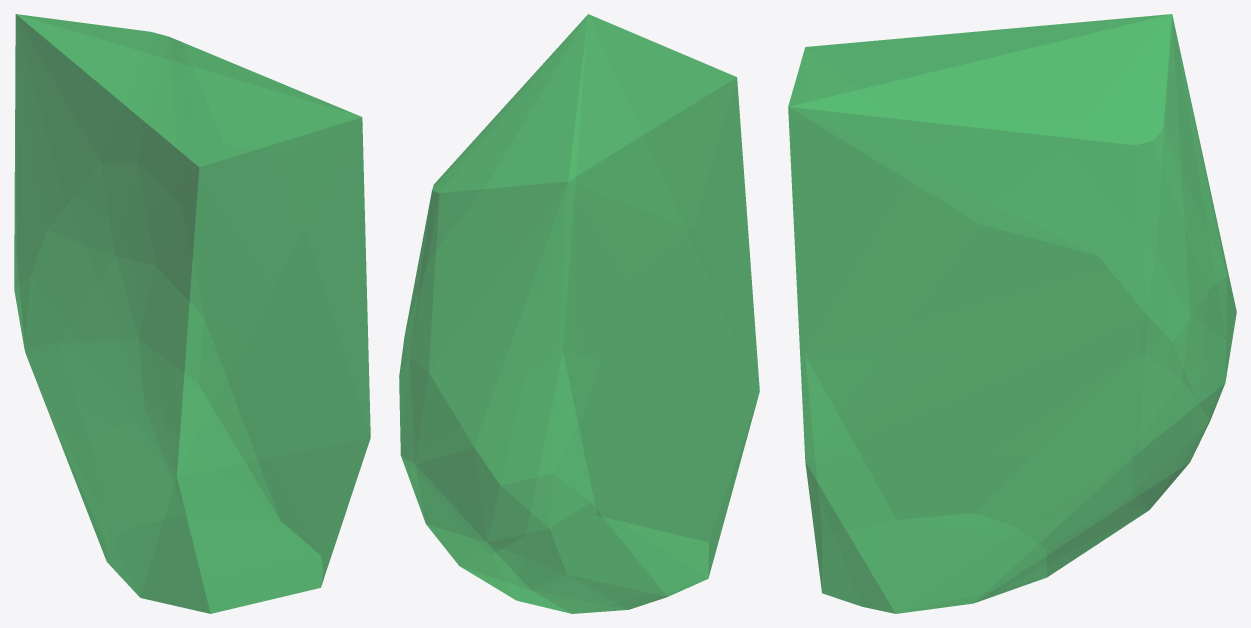
3 renders of one model, left to right at view 1: azimuth 30°, elevation 25°; view 2: azimuth 150°, elevation 25°; view 3: azimuth 270°, elevation 25°, orthographic. The views are drawn at different scales.
Visible parts, largest first — view 1: Shape_IndexedFaceSet.001_Shape_IndexedFaceSet.7487; view 2: Shape_IndexedFaceSet.001_Shape_IndexedFaceSet.7487; view 3: Shape_IndexedFaceSet.001_Shape_IndexedFaceSet.7487.
Part boxes in pixels (x1,y1,x2,y2): Shape_IndexedFaceSet.001_Shape_IndexedFaceSet.7487: (14,14,370,613); Shape_IndexedFaceSet.001_Shape_IndexedFaceSet.7487: (399,14,759,613); Shape_IndexedFaceSet.001_Shape_IndexedFaceSet.7487: (788,14,1236,613).
Bounding box in the file's own units: 0.1921 × 0.4616 × 0.3673.
